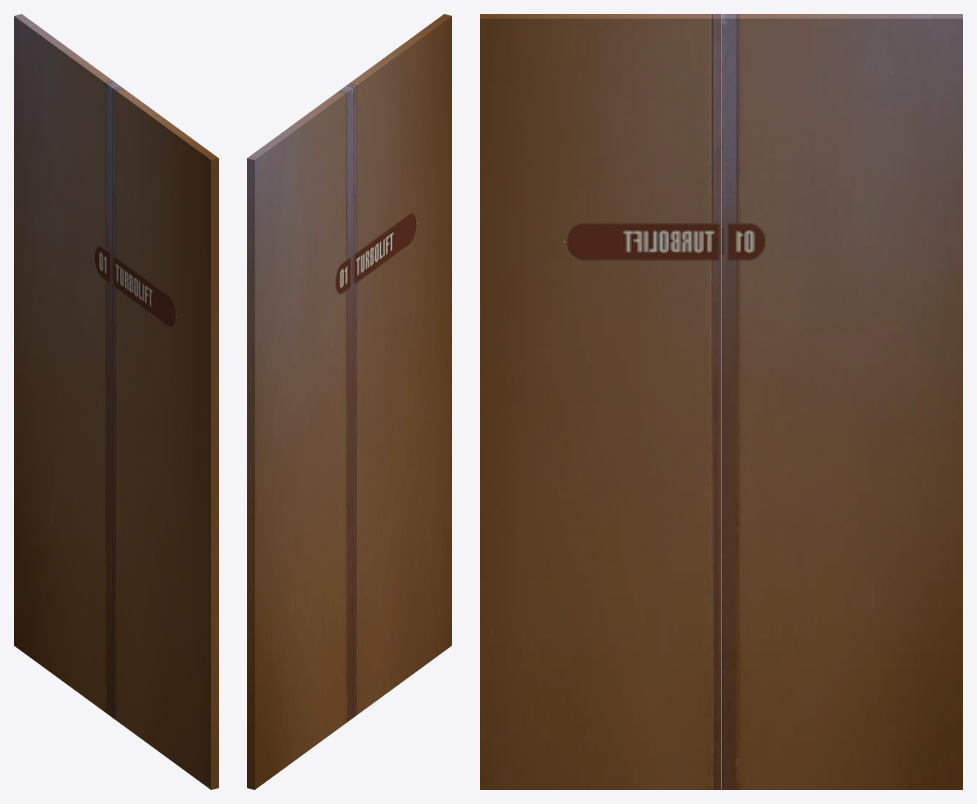
File: CorridorDoor.FBX
3 views of the same model, side by side, from view 1: azimuth 30°, elevation 25°; view 2: azimuth 150°, elevation 25°; view 3: azimuth 270°, elevation 25° (orthographic). The views are drawn at different scales.
Visible parts, largest first — view 1: Box197, Box198; view 2: Box198, Box197; view 3: Box198, Box197.
Part boxes in pixels (x1,y1,x2,y2): Box197: (112, 86, 218, 789); Box198: (14, 14, 119, 717); Box198: (247, 86, 353, 789); Box197: (346, 14, 451, 717); Box198: (721, 14, 962, 789); Box197: (480, 14, 721, 789).
Size of the model in its own units: 0.1 by 7.69 by 4.36.
